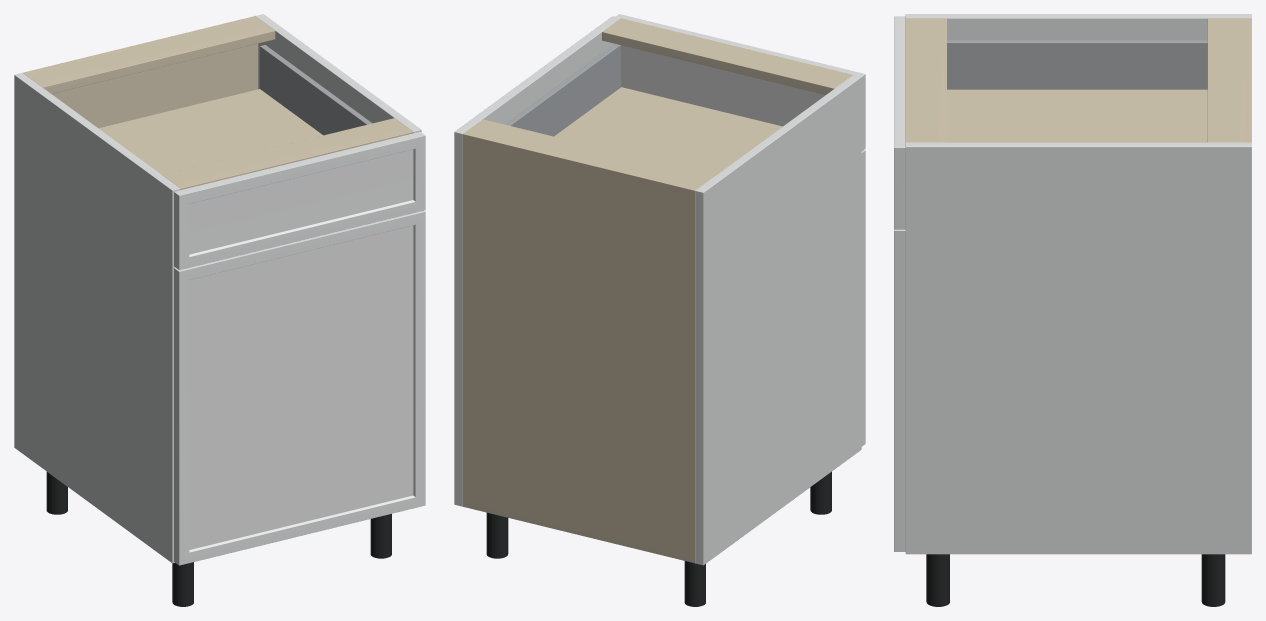
Rendered from oppein-ply-ssw-b21.glb.
The picture shows the model from 3 angles, left to right: view 1: azimuth 30°, elevation 25°; view 2: azimuth 150°, elevation 25°; view 3: azimuth 270°, elevation 25°; orthographic projection. The views are drawn at different scales.
Parts seen in each view (by area): view 1: Door, Cabinet side, Drawer front, Drawer floor, Cabinet back, Top support rail, Top support rail.001, Drawer side.001, Cabinet side.001, Adjustable foot.001, Adjustable foot.003, Adjustable foot; view 2: Cabinet back, Cabinet side, Drawer floor, Drawer front, Cabinet side.001, Top support rail.001, Drawer side.001, Top support rail, Cabinet bottom, Door, Adjustable foot.002, Adjustable foot (+1 smaller); view 3: Cabinet side.001, Drawer floor, Drawer side, Cabinet side, Top support rail.001, Top support rail, Door, Drawer front, Adjustable foot.002, Adjustable foot.003, Cabinet back.
Boxes of the visible parts, x1,y1,x2,y2 form: Door: [174, 210, 425, 565]; Cabinet side: [14, 73, 180, 563]; Drawer front: [174, 131, 425, 269]; Drawer floor: [99, 89, 322, 174]; Cabinet back: [23, 16, 258, 128]; Top support rail: [24, 18, 275, 93]; Top support rail.001: [162, 118, 413, 189]; Drawer side.001: [260, 45, 372, 135]; Cabinet side.001: [255, 14, 421, 133]; Adjustable foot.001: [172, 562, 193, 606]; Adjustable foot.003: [370, 514, 391, 558]; Adjustable foot: [46, 472, 67, 514]; Cabinet back: [462, 132, 697, 562]; Cabinet side: [695, 75, 861, 565]; Drawer floor: [554, 87, 782, 175]; Drawer front: [615, 14, 865, 150]; Cabinet side.001: [454, 16, 620, 506]; Top support rail.001: [602, 18, 852, 94]; Drawer side.001: [505, 44, 621, 136]; Top support rail: [466, 119, 714, 188]; Cabinet bottom: [462, 498, 694, 563]; Door: [861, 150, 865, 446]; Adjustable foot.002: [486, 512, 508, 558]; Adjustable foot: [684, 561, 705, 606]; Cabinet side.001: [905, 142, 1251, 554]; Drawer floor: [947, 89, 1207, 142]; Drawer side: [947, 40, 1207, 89]; Cabinet side: [905, 14, 1251, 39]; Top support rail.001: [905, 18, 946, 142]; Top support rail: [1207, 18, 1245, 142]; Door: [894, 229, 905, 551]; Drawer front: [894, 16, 905, 229]; Adjustable foot.002: [1201, 554, 1225, 606]; Adjustable foot.003: [926, 554, 949, 606]; Cabinet back: [1245, 18, 1251, 142].
Bounding box in the file's own units: 0.5334 × 0.8763 × 0.6064.
